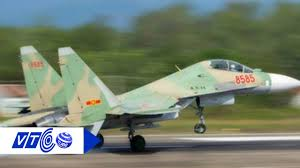maybay_muctieu: (15, 45, 300, 138)
